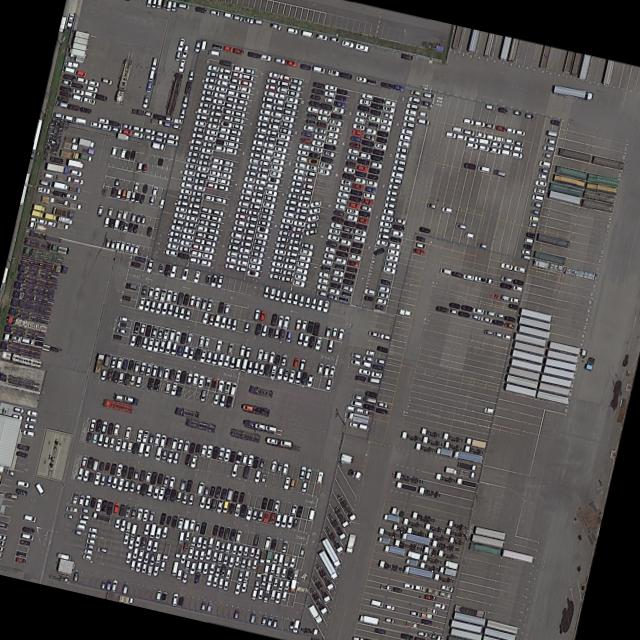large-vehicle: (20, 253, 70, 274), (114, 57, 134, 102), (13, 279, 56, 299), (12, 287, 54, 307), (6, 313, 48, 333), (16, 270, 58, 290), (0, 370, 41, 390), (0, 348, 43, 367), (10, 296, 53, 315), (0, 339, 43, 358), (8, 305, 50, 324), (2, 330, 44, 349), (18, 263, 60, 282), (3, 322, 46, 340), (23, 245, 66, 263), (313, 559, 336, 591), (320, 535, 342, 568), (553, 83, 594, 100), (325, 510, 348, 540), (317, 548, 339, 579), (323, 523, 345, 554), (336, 492, 358, 522), (311, 575, 333, 603), (554, 163, 589, 180), (557, 145, 592, 162), (590, 153, 625, 170), (545, 346, 580, 363), (308, 586, 329, 614), (537, 231, 571, 248), (501, 547, 535, 564), (504, 381, 538, 398), (229, 426, 261, 444), (541, 364, 577, 380), (184, 416, 217, 433), (549, 181, 584, 197), (580, 197, 615, 213), (547, 339, 582, 355), (540, 372, 575, 388), (544, 356, 579, 372), (452, 610, 487, 626), (582, 188, 616, 204), (564, 265, 598, 281), (548, 189, 582, 205), (587, 171, 621, 187), (533, 248, 567, 264), (537, 388, 571, 404), (486, 618, 520, 634), (470, 532, 506, 547), (585, 179, 618, 195), (506, 373, 539, 389), (454, 602, 487, 618), (472, 524, 507, 539), (538, 380, 573, 395), (331, 502, 351, 528), (532, 256, 564, 272), (469, 540, 501, 556), (29, 228, 63, 243), (513, 340, 547, 355), (507, 365, 541, 380), (512, 348, 546, 363), (513, 331, 547, 346), (450, 618, 484, 633), (448, 626, 484, 640), (553, 173, 586, 188), (510, 357, 543, 372), (520, 306, 553, 321), (430, 537, 460, 553), (402, 565, 434, 580), (518, 323, 550, 338), (103, 398, 134, 413), (401, 531, 432, 546), (393, 537, 424, 552), (519, 315, 552, 329), (484, 626, 517, 640), (377, 558, 404, 575), (453, 448, 485, 462), (394, 469, 423, 484), (24, 235, 51, 250), (307, 602, 324, 623), (175, 405, 200, 419), (410, 510, 435, 524), (432, 570, 457, 584), (377, 525, 403, 538), (249, 384, 274, 397), (444, 526, 467, 540), (420, 552, 443, 566), (45, 161, 69, 174), (383, 543, 407, 556), (446, 518, 468, 532), (395, 480, 418, 493), (418, 485, 441, 498), (465, 436, 488, 449), (455, 476, 478, 489), (423, 521, 445, 534), (436, 548, 458, 561), (345, 532, 358, 554), (421, 434, 443, 447), (406, 525, 429, 537), (402, 516, 425, 528), (462, 444, 485, 456), (400, 429, 423, 441), (413, 441, 436, 453), (346, 465, 364, 480), (52, 206, 74, 218), (442, 431, 464, 443), (434, 472, 456, 484), (420, 425, 440, 438), (359, 613, 380, 625), (427, 530, 449, 541), (29, 220, 49, 232), (78, 135, 96, 148), (418, 560, 439, 571), (439, 565, 458, 577), (443, 439, 463, 450), (52, 242, 71, 253), (405, 548, 422, 560), (61, 149, 80, 159), (382, 513, 401, 523), (457, 460, 476, 470), (68, 158, 85, 169), (483, 633, 509, 640), (435, 446, 453, 456), (448, 535, 464, 546), (422, 545, 438, 556), (444, 559, 460, 570), (57, 214, 74, 224), (459, 468, 476, 478), (53, 180, 68, 191), (43, 211, 58, 221), (63, 140, 78, 150), (115, 132, 130, 142), (392, 522, 407, 532), (391, 506, 406, 516), (369, 598, 384, 608), (447, 634, 472, 640), (56, 173, 72, 182), (52, 188, 66, 198), (405, 556, 419, 566), (444, 465, 458, 475), (41, 194, 56, 203), (151, 141, 166, 150), (68, 200, 82, 209), (37, 185, 51, 194), (49, 154, 63, 163), (30, 209, 44, 218), (32, 202, 46, 211), (377, 535, 391, 544), (56, 221, 69, 230), (56, 197, 69, 206), (68, 185, 81, 194), (80, 152, 93, 161), (64, 134, 77, 143), (379, 582, 392, 591), (151, 116, 163, 125), (384, 602, 396, 611), (83, 146, 95, 154)
small-vehicle: (94, 352, 105, 372), (162, 540, 172, 561), (34, 481, 46, 495), (297, 464, 308, 479), (174, 541, 183, 559), (148, 522, 158, 538), (265, 423, 279, 434), (55, 551, 72, 560), (206, 62, 221, 72), (210, 444, 220, 459), (199, 387, 209, 402), (134, 427, 144, 442), (157, 485, 167, 500), (93, 470, 103, 485), (73, 115, 88, 125), (195, 105, 211, 114), (19, 531, 35, 540), (280, 512, 289, 528), (177, 35, 186, 51), (399, 306, 412, 317), (372, 245, 385, 256), (196, 373, 206, 387), (284, 196, 298, 206), (134, 333, 144, 347), (377, 230, 391, 240), (160, 525, 170, 539), (315, 469, 325, 483), (166, 448, 176, 462), (230, 462, 240, 476), (242, 465, 252, 479), (218, 392, 228, 406), (76, 466, 86, 480), (341, 38, 355, 48), (259, 52, 273, 62), (421, 610, 435, 620), (321, 298, 331, 312), (498, 280, 513, 289), (499, 260, 514, 269), (434, 303, 449, 312), (164, 339, 173, 354), (210, 350, 219, 365), (338, 183, 353, 192), (401, 119, 416, 128), (400, 126, 415, 135), (326, 232, 341, 241), (64, 504, 79, 513), (110, 577, 119, 592), (105, 499, 114, 514), (130, 521, 139, 536), (280, 460, 289, 475), (205, 442, 214, 457), (199, 442, 208, 457), (114, 436, 123, 451), (155, 445, 164, 460), (283, 474, 292, 489), (212, 390, 221, 405), (170, 380, 179, 395), (123, 424, 132, 439), (96, 431, 105, 446), (117, 476, 126, 491), (196, 480, 205, 495), (245, 505, 254, 520), (307, 506, 316, 521), (355, 42, 370, 51), (177, 57, 186, 72), (146, 257, 155, 272), (216, 273, 225, 288), (294, 211, 307, 221), (15, 548, 28, 558), (149, 363, 159, 376), (155, 155, 165, 168), (383, 264, 396, 274), (95, 92, 108, 102), (83, 95, 96, 105), (378, 283, 391, 293), (414, 583, 427, 593), (201, 250, 214, 260), (171, 559, 179, 575), (66, 11, 74, 27), (241, 180, 255, 189), (267, 69, 281, 78), (273, 246, 287, 255), (357, 366, 371, 375), (367, 328, 381, 337), (164, 247, 178, 256), (364, 388, 378, 397), (363, 394, 377, 403), (177, 250, 191, 259), (185, 213, 199, 222), (202, 81, 216, 90), (513, 264, 527, 273), (474, 273, 488, 282), (358, 96, 372, 105), (129, 332, 138, 346), (140, 335, 149, 349), (170, 341, 179, 355), (193, 346, 202, 360), (538, 158, 552, 167), (545, 128, 559, 137), (352, 121, 366, 130), (402, 113, 416, 122), (291, 224, 305, 233), (324, 82, 338, 91), (296, 147, 310, 156), (310, 86, 324, 95), (380, 213, 394, 222), (382, 206, 396, 215), (390, 169, 404, 178), (397, 138, 411, 147), (375, 237, 389, 246), (318, 269, 332, 278), (328, 226, 342, 235), (179, 369, 188, 383), (228, 355, 237, 369), (283, 552, 292, 566), (71, 491, 80, 505), (100, 498, 109, 512), (112, 500, 121, 514), (123, 503, 132, 517), (135, 506, 144, 520), (23, 513, 37, 522), (16, 478, 30, 487), (21, 524, 35, 533), (15, 449, 29, 458), (119, 517, 128, 531), (280, 538, 289, 552), (176, 515, 185, 529), (199, 520, 208, 534), (251, 455, 260, 469), (217, 445, 226, 459), (182, 438, 191, 452), (137, 441, 146, 455), (170, 436, 179, 450), (225, 394, 234, 408), (155, 364, 164, 378), (152, 377, 161, 391), (152, 431, 161, 445), (88, 416, 97, 430), (146, 430, 155, 444), (163, 487, 172, 501), (146, 482, 155, 496), (222, 499, 231, 513), (111, 474, 120, 488), (274, 589, 283, 603), (292, 618, 301, 632), (184, 478, 193, 492), (167, 474, 176, 488), (161, 473, 170, 487), (149, 470, 158, 484), (109, 461, 118, 475), (86, 455, 95, 469), (295, 503, 304, 517), (213, 484, 222, 498), (272, 498, 281, 512), (266, 497, 275, 511), (222, 353, 231, 367), (389, 234, 403, 243), (315, 31, 329, 40), (246, 50, 260, 59), (312, 64, 326, 73), (339, 70, 353, 79), (416, 116, 430, 125), (141, 94, 150, 108), (440, 583, 454, 592), (425, 586, 439, 595), (428, 631, 442, 640), (61, 71, 75, 80), (425, 605, 439, 614), (240, 357, 249, 371), (210, 272, 219, 286), (152, 285, 161, 299), (140, 282, 149, 296), (262, 283, 271, 297), (199, 296, 208, 310), (214, 338, 223, 352), (275, 234, 290, 242), (179, 180, 194, 188), (329, 220, 344, 228), (171, 591, 179, 606), (181, 568, 189, 583), (189, 560, 197, 575), (290, 578, 298, 593), (155, 524, 163, 539), (246, 452, 254, 467), (223, 447, 231, 462), (144, 361, 152, 376), (260, 611, 268, 626), (287, 514, 295, 529), (184, 79, 192, 94), (434, 600, 446, 610), (400, 51, 413, 60), (260, 100, 273, 109), (261, 94, 274, 103), (263, 88, 276, 97), (233, 217, 246, 226), (270, 264, 283, 273), (279, 221, 292, 230), (282, 209, 295, 218), (261, 146, 274, 155), (263, 139, 276, 148), (166, 241, 179, 250), (216, 378, 225, 391), (254, 421, 267, 430), (280, 439, 293, 448), (350, 398, 363, 407), (194, 176, 207, 185), (460, 302, 473, 311), (457, 308, 470, 317), (176, 343, 185, 356), (199, 348, 208, 361), (217, 352, 226, 365), (347, 146, 360, 155), (290, 230, 303, 239), (297, 199, 310, 208), (305, 162, 318, 171), (307, 104, 320, 113), (308, 98, 321, 107), (318, 107, 331, 116), (321, 257, 334, 266), (324, 244, 337, 253), (277, 552, 286, 565), (173, 368, 182, 381), (83, 493, 92, 506), (129, 505, 138, 518), (22, 428, 35, 437), (234, 528, 243, 541), (252, 532, 261, 545), (263, 535, 272, 548), (240, 579, 249, 592), (269, 458, 278, 471), (234, 450, 243, 463), (301, 479, 310, 492), (254, 469, 263, 482), (126, 357, 135, 370), (112, 422, 121, 435), (100, 419, 109, 432), (102, 434, 111, 447), (105, 473, 114, 486), (82, 468, 91, 481), (179, 477, 188, 490), (126, 465, 135, 478), (384, 259, 397, 268), (391, 228, 404, 237), (76, 75, 89, 84), (84, 89, 97, 98), (269, 21, 282, 30), (374, 302, 387, 311), (327, 67, 340, 76), (464, 161, 477, 170), (477, 164, 490, 173), (494, 168, 507, 177), (412, 246, 425, 255), (451, 124, 464, 133), (439, 589, 452, 598), (63, 65, 76, 74), (65, 58, 78, 67), (131, 106, 144, 115), (423, 592, 436, 601), (374, 625, 387, 634), (400, 631, 413, 640), (210, 161, 223, 170), (229, 75, 242, 84), (232, 63, 245, 72), (203, 192, 216, 201), (200, 257, 213, 266), (303, 294, 312, 307), (309, 296, 318, 309), (315, 297, 324, 310), (187, 294, 196, 307), (225, 341, 234, 354), (257, 113, 271, 121), (240, 187, 254, 195), (219, 66, 233, 74), (213, 90, 227, 98), (277, 228, 291, 236), (170, 223, 184, 231), (229, 381, 237, 395), (174, 204, 188, 212), (178, 244, 192, 252), (181, 232, 195, 240), (182, 226, 196, 234), (187, 207, 201, 215), (205, 69, 219, 77), (192, 183, 206, 191), (196, 164, 210, 172), (204, 75, 218, 83), (188, 143, 202, 151), (177, 192, 191, 200), (179, 186, 193, 194), (181, 174, 195, 182), (182, 168, 196, 176), (184, 161, 198, 169), (187, 149, 201, 157), (189, 137, 203, 145), (194, 118, 208, 126), (198, 100, 212, 108), (201, 87, 215, 95), (499, 274, 513, 282), (511, 277, 525, 285), (438, 266, 452, 274), (534, 178, 548, 186), (147, 336, 155, 350), (153, 337, 161, 351), (182, 344, 190, 358), (188, 345, 196, 359), (205, 349, 213, 363), (357, 103, 371, 111), (337, 190, 351, 198), (405, 101, 419, 109), (404, 107, 418, 115), (288, 237, 302, 245), (309, 144, 323, 152), (297, 141, 311, 149), (319, 101, 333, 109), (379, 219, 393, 227), (389, 176, 403, 184), (363, 286, 377, 294), (393, 157, 407, 165), (331, 214, 345, 222), (259, 549, 267, 563), (265, 549, 273, 563), (161, 588, 169, 602), (214, 562, 222, 576), (141, 507, 149, 521), (134, 533, 142, 547), (146, 537, 154, 551), (125, 549, 133, 563), (143, 521, 151, 535), (188, 517, 196, 531), (159, 511, 167, 525), (234, 580, 242, 594), (144, 442, 152, 456), (173, 450, 181, 464), (190, 453, 198, 467), (159, 433, 167, 447), (115, 355, 123, 369), (103, 352, 111, 366), (141, 428, 149, 442), (106, 420, 114, 434), (94, 417, 102, 431), (147, 375, 155, 389), (112, 368, 120, 382), (123, 371, 131, 385), (140, 481, 148, 495), (153, 484, 161, 498), (181, 490, 189, 504), (188, 491, 196, 505), (199, 494, 207, 508), (205, 495, 213, 509), (216, 498, 224, 512), (234, 502, 242, 516), (120, 463, 128, 477), (115, 462, 123, 476), (274, 512, 282, 526), (260, 495, 268, 509), (234, 356, 242, 370), (61, 113, 75, 121), (301, 29, 315, 37), (219, 58, 233, 66), (379, 80, 393, 88), (193, 38, 201, 52), (182, 43, 190, 57), (193, 294, 201, 308), (170, 263, 178, 277), (181, 266, 189, 280), (182, 292, 190, 306), (165, 288, 173, 302), (147, 284, 155, 298), (269, 285, 277, 299), (280, 288, 288, 302), (206, 297, 214, 311), (274, 55, 285, 65), (259, 106, 271, 115), (227, 242, 239, 251), (273, 96, 285, 105), (277, 78, 289, 87), (279, 72, 291, 81), (185, 371, 194, 383), (267, 435, 279, 444), (463, 271, 475, 280), (348, 139, 360, 148), (307, 156, 319, 165), (323, 250, 335, 259), (15, 486, 27, 495), (18, 537, 30, 546), (145, 563, 154, 575), (211, 523, 220, 535), (222, 526, 231, 538), (228, 528, 237, 540), (131, 441, 140, 453), (117, 369, 126, 381), (219, 486, 228, 498), (76, 68, 88, 77), (386, 253, 398, 262), (387, 247, 399, 256), (101, 76, 113, 85), (86, 84, 98, 93), (72, 93, 84, 102), (376, 296, 388, 305), (132, 123, 144, 132), (181, 94, 190, 106), (441, 204, 453, 213), (466, 140, 478, 149), (512, 150, 524, 159), (474, 118, 486, 127), (403, 581, 415, 590), (420, 616, 432, 625), (409, 607, 421, 616), (219, 124, 231, 133), (206, 180, 218, 189), (204, 237, 216, 246), (207, 173, 219, 182), (189, 255, 201, 264), (190, 247, 202, 256), (203, 244, 215, 253), (197, 216, 209, 225), (238, 344, 247, 356), (185, 331, 194, 343), (205, 127, 218, 135), (243, 174, 256, 182), (246, 162, 259, 170), (253, 131, 266, 139), (208, 115, 221, 123), (210, 109, 223, 117), (212, 96, 225, 104), (215, 84, 228, 92), (218, 72, 231, 80), (223, 261, 236, 269), (225, 255, 238, 263), (226, 249, 239, 257), (230, 230, 243, 238), (231, 224, 244, 232), (271, 259, 284, 267), (269, 271, 282, 279), (272, 253, 285, 261), (275, 240, 288, 248), (281, 216, 294, 224), (283, 203, 296, 211), (270, 109, 283, 117), (238, 245, 251, 253), (245, 214, 258, 222), (247, 208, 260, 216), (250, 195, 263, 203), (256, 171, 269, 179), (207, 121, 220, 129), (370, 369, 383, 377), (349, 357, 362, 365), (361, 353, 374, 361), (376, 344, 389, 352), (375, 406, 388, 414), (168, 235, 181, 243), (169, 229, 182, 237), (367, 375, 380, 383), (354, 373, 367, 381), (224, 379, 232, 392), (173, 210, 186, 218), (180, 238, 193, 246), (191, 189, 204, 197), (198, 158, 211, 166), (199, 152, 212, 160), (176, 198, 189, 206), (186, 155, 199, 163), (192, 124, 205, 132), (200, 94, 213, 102), (287, 191, 300, 199), (448, 300, 461, 308), (408, 95, 421, 103), (472, 306, 485, 314), (531, 193, 544, 201), (533, 186, 546, 194), (361, 91, 374, 99), (158, 339, 166, 352), (355, 109, 368, 117), (354, 115, 367, 123), (542, 143, 555, 151), (340, 177, 353, 185), (342, 171, 355, 179), (343, 165, 356, 173), (283, 262, 296, 270), (287, 243, 300, 251), (293, 218, 306, 226), (300, 188, 313, 196), (302, 123, 315, 131), (293, 166, 306, 174), (294, 160, 307, 168), (295, 154, 308, 162), (299, 135, 312, 143), (323, 89, 336, 97), (312, 80, 325, 88), (308, 150, 321, 158), (311, 138, 324, 146), (378, 225, 391, 233), (383, 200, 396, 208), (384, 194, 397, 202), (392, 163, 405, 171), (395, 151, 408, 159), (396, 145, 409, 153), (336, 196, 349, 204), (314, 126, 327, 134), (317, 276, 330, 284), (334, 202, 347, 210), (191, 371, 199, 384), (155, 588, 163, 601), (209, 560, 217, 573), (219, 563, 227, 576), (205, 572, 213, 585), (256, 564, 264, 577), (205, 547, 213, 560), (187, 545, 195, 558), (78, 493, 86, 506), (95, 497, 103, 510), (118, 503, 126, 516), (147, 509, 155, 522), (17, 442, 30, 450), (137, 548, 145, 561), (140, 535, 148, 548), (152, 539, 160, 552), (143, 550, 151, 563), (148, 551, 156, 564), (155, 550, 163, 563), (152, 563, 160, 576), (170, 514, 178, 527), (217, 524, 225, 537), (236, 568, 244, 581), (228, 449, 236, 462), (188, 440, 196, 453), (184, 452, 192, 465), (109, 354, 117, 367), (121, 356, 129, 369), (133, 359, 141, 372), (139, 360, 147, 373), (168, 366, 176, 379), (100, 367, 108, 380), (106, 367, 114, 380), (135, 374, 143, 387), (123, 478, 131, 491), (129, 478, 137, 491), (240, 503, 248, 516), (155, 472, 163, 485), (138, 468, 146, 481), (92, 457, 100, 470), (79, 454, 87, 467), (257, 508, 265, 521), (263, 509, 271, 522), (269, 511, 277, 524), (290, 502, 298, 515), (226, 487, 234, 500), (55, 99, 68, 107), (380, 277, 393, 285), (388, 241, 401, 249), (394, 216, 407, 224), (72, 87, 85, 95), (167, 132, 180, 140), (299, 62, 312, 70), (392, 83, 405, 91), (120, 121, 133, 129), (97, 116, 110, 124), (361, 293, 374, 301), (163, 262, 171, 275), (193, 269, 201, 282), (176, 291, 184, 304), (159, 287, 167, 300), (216, 137, 229, 145), (224, 100, 237, 108), (292, 291, 300, 304), (298, 293, 306, 306), (179, 330, 187, 343), (209, 376, 218, 387), (243, 15, 254, 24), (456, 221, 467, 230), (456, 132, 467, 141), (483, 405, 494, 414), (193, 241, 204, 250), (191, 131, 205, 138), (202, 535, 209, 549), (122, 580, 129, 594), (183, 516, 190, 530), (162, 365, 169, 379), (252, 137, 264, 145), (255, 125, 267, 133), (256, 119, 268, 127), (265, 82, 277, 90), (237, 199, 249, 207), (236, 205, 248, 213), (229, 236, 241, 244), (235, 264, 247, 272), (237, 258, 249, 266), (238, 251, 250, 259), (271, 103, 283, 111), (274, 91, 286, 99), (276, 85, 288, 93), (252, 189, 264, 197), (243, 226, 255, 234), (245, 220, 257, 228), (267, 128, 279, 136), (255, 177, 267, 185), (361, 359, 373, 367), (372, 362, 384, 370), (349, 350, 361, 358), (374, 356, 386, 364), (379, 332, 391, 340), (358, 422, 370, 430), (351, 392, 363, 400), (190, 195, 202, 203), (196, 170, 208, 178), (291, 179, 303, 187), (451, 269, 463, 277), (484, 308, 496, 316), (469, 311, 481, 319), (492, 317, 504, 325), (503, 320, 515, 328), (544, 136, 556, 144), (549, 117, 561, 125), (346, 152, 358, 160), (351, 128, 363, 136), (285, 255, 297, 263), (281, 274, 293, 282), (299, 194, 311, 202), (303, 182, 315, 190), (305, 169, 317, 177), (292, 173, 304, 181), (313, 132, 325, 140), (317, 113, 329, 121), (316, 282, 328, 290), (325, 238, 337, 246), (332, 208, 344, 216), (237, 543, 245, 555), (180, 551, 188, 563), (96, 544, 108, 552), (286, 567, 294, 579), (196, 560, 204, 572), (240, 555, 248, 567), (13, 404, 25, 412), (6, 491, 18, 499), (176, 438, 184, 450), (304, 467, 312, 479), (120, 439, 128, 451), (126, 440, 134, 452), (175, 489, 183, 501), (249, 610, 257, 622), (85, 430, 93, 442), (238, 490, 246, 502), (377, 290, 389, 298), (67, 102, 79, 110), (79, 105, 91, 113), (393, 222, 405, 230), (87, 78, 99, 86), (195, 5, 207, 13), (208, 48, 220, 56), (285, 58, 297, 66), (355, 74, 367, 82), (366, 77, 378, 85), (200, 38, 208, 50), (108, 118, 120, 126), (421, 99, 433, 107), (423, 91, 435, 99), (445, 130, 457, 138), (495, 123, 507, 131), (419, 225, 431, 233), (415, 240, 427, 248), (479, 136, 491, 144), (475, 130, 487, 138), (58, 89, 70, 97), (59, 83, 71, 91), (147, 68, 155, 80), (170, 289, 178, 301), (222, 112, 234, 120), (209, 168, 221, 176), (212, 156, 224, 164), (214, 143, 226, 151), (223, 106, 235, 114), (226, 94, 238, 102), (228, 88, 240, 96), (229, 82, 241, 90), (199, 211, 211, 219), (154, 134, 166, 142), (197, 334, 205, 346), (239, 193, 252, 200), (211, 103, 224, 110), (217, 79, 230, 86), (257, 165, 270, 172), (260, 153, 273, 160), (204, 134, 217, 141), (202, 140, 215, 147), (363, 402, 376, 409), (171, 217, 184, 224), (188, 201, 201, 208), (184, 220, 197, 227), (201, 146, 214, 153), (195, 113, 208, 120), (480, 315, 493, 322), (309, 93, 322, 100), (387, 182, 400, 189), (399, 133, 412, 140), (197, 534, 204, 547), (78, 512, 91, 519), (290, 554, 297, 567), (202, 560, 209, 573), (194, 571, 201, 584), (128, 535, 135, 548), (123, 531, 130, 544), (170, 488, 177, 501), (210, 497, 217, 510), (99, 473, 106, 486), (261, 573, 268, 586), (228, 501, 235, 514), (286, 26, 299, 33), (463, 128, 476, 135), (416, 629, 429, 636), (166, 138, 179, 145), (134, 255, 147, 262), (275, 287, 282, 300), (217, 131, 230, 138), (286, 290, 293, 303), (330, 34, 340, 43), (266, 76, 277, 84), (268, 122, 279, 130), (242, 233, 253, 241), (254, 183, 265, 191), (204, 375, 212, 386), (243, 403, 254, 411), (538, 165, 549, 173), (303, 175, 314, 183), (306, 110, 317, 118), (64, 512, 75, 520), (89, 496, 97, 507), (15, 555, 26, 563), (159, 560, 167, 571), (141, 562, 149, 573), (193, 520, 201, 531), (258, 457, 266, 468), (164, 381, 172, 392), (91, 432, 99, 443), (269, 588, 277, 599), (262, 591, 270, 602), (179, 1, 190, 9), (209, 8, 220, 16), (254, 17, 265, 25), (212, 42, 223, 50), (233, 46, 244, 54), (173, 116, 184, 124), (145, 80, 153, 91), (477, 241, 488, 249), (426, 201, 437, 209), (506, 125, 517, 133), (468, 135, 479, 143), (478, 143, 489, 151), (486, 132, 497, 140), (463, 117, 474, 125), (384, 615, 395, 623), (61, 77, 72, 85), (115, 208, 123, 219), (127, 221, 135, 232), (118, 240, 126, 251), (194, 236, 205, 244), (197, 223, 208, 231), (245, 168, 257, 175), (249, 150, 261, 157), (251, 144, 263, 151), (235, 212, 247, 219), (269, 116, 281, 123), (240, 239, 252, 246), (249, 202, 261, 209), (258, 158, 270, 165), (265, 134, 277, 141), (377, 400, 389, 407), (289, 185, 301, 192), (507, 302, 519, 309), (512, 284, 524, 291), (530, 200, 542, 207), (410, 88, 422, 95), (504, 314, 516, 321), (350, 134, 362, 141), (286, 250, 298, 257), (296, 206, 308, 213), (282, 268, 294, 275), (300, 129, 312, 136), (386, 188, 398, 195), (320, 264, 332, 271), (315, 289, 327, 296), (214, 538, 221, 550), (105, 578, 112, 590), (293, 567, 300, 579), (178, 530, 185, 542), (72, 570, 79, 582), (228, 554, 235, 566), (222, 552, 229, 564), (115, 515, 122, 527), (12, 412, 24, 419), (26, 409, 38, 416), (130, 558, 137, 570), (135, 560, 142, 572), (241, 452, 248, 464), (109, 435, 116, 447), (176, 384, 183, 396), (129, 373, 136, 385), (251, 587, 258, 599), (233, 607, 240, 619), (266, 614, 273, 626), (252, 508, 259, 520), (232, 489, 239, 501), (57, 95, 69, 102), (144, 127, 156, 134), (489, 146, 501, 153), (490, 140, 502, 147), (150, 57, 157, 69), (352, 633, 364, 640), (414, 634, 428, 640), (156, 130, 168, 137), (97, 203, 104, 215), (146, 224, 153, 236), (130, 260, 142, 267), (118, 218, 125, 230), (123, 240, 130, 252), (133, 243, 140, 255), (108, 216, 115, 228), (220, 119, 232, 126), (231, 70, 243, 77), (201, 205, 213, 212), (393, 584, 402, 593), (245, 419, 255, 427), (177, 595, 185, 605), (6, 468, 16, 476), (0, 520, 10, 528), (253, 579, 261, 589), (233, 13, 243, 21), (419, 109, 429, 117), (172, 122, 182, 130), (416, 233, 426, 241), (513, 144, 523, 152), (204, 273, 212, 283), (104, 237, 112, 247), (196, 229, 206, 237), (248, 156, 259, 163), (490, 291, 501, 298), (520, 252, 531, 259), (521, 247, 532, 254), (522, 242, 533, 249), (523, 236, 534, 243), (529, 214, 540, 221), (447, 307, 458, 314), (345, 159, 356, 166), (305, 117, 316, 124), (316, 120, 327, 127), (182, 540, 189, 551), (190, 534, 197, 545), (208, 536, 215, 547), (249, 545, 256, 556), (273, 551, 280, 562), (176, 568, 183, 579), (79, 506, 90, 513), (225, 567, 232, 578), (184, 558, 191, 569), (223, 579, 230, 590), (217, 576, 224, 587), (278, 579, 285, 590), (280, 566, 287, 577), (275, 564, 282, 575), (263, 563, 270, 574), (252, 558, 259, 569), (199, 549, 206, 560), (193, 548, 200, 559), (281, 590, 288, 601), (72, 528, 83, 535), (24, 422, 35, 429), (132, 546, 139, 557), (270, 537, 277, 548), (243, 569, 250, 580), (162, 447, 169, 458), (165, 434, 172, 445), (124, 395, 135, 402), (135, 482, 142, 493), (257, 588, 264, 599), (265, 582, 272, 593), (144, 470, 151, 481), (209, 484, 216, 495), (166, 0, 173, 11), (171, 0, 178, 11), (179, 107, 186, 118), (524, 112, 535, 119), (501, 148, 512, 155), (503, 142, 514, 149), (153, 112, 164, 119), (107, 205, 114, 216), (121, 209, 128, 220), (130, 211, 137, 222), (132, 222, 139, 233), (123, 220, 130, 231), (109, 238, 116, 249), (128, 242, 135, 253), (103, 215, 110, 226), (113, 218, 120, 229), (244, 346, 251, 357), (203, 336, 210, 347), (350, 420, 359, 428), (243, 544, 249, 556), (255, 546, 261, 558), (217, 551, 223, 563), (260, 473, 268, 482), (161, 0, 169, 9), (224, 10, 233, 18), (486, 121, 495, 129), (365, 348, 375, 355), (345, 404, 355, 411), (501, 293, 511, 300), (526, 230, 536, 237), (502, 332, 512, 339), (493, 329, 503, 336), (495, 311, 505, 318), (538, 172, 548, 179), (542, 151, 552, 158), (324, 95, 334, 102), (184, 530, 191, 540), (231, 543, 238, 553), (86, 537, 96, 544), (87, 531, 97, 538), (88, 525, 98, 532), (77, 517, 87, 524), (211, 576, 218, 586), (200, 600, 207, 610), (206, 601, 213, 611), (270, 562, 277, 572), (299, 545, 306, 555), (276, 461, 283, 471), (194, 443, 201, 453), (267, 573, 274, 583), (203, 484, 210, 494), (223, 44, 233, 51), (174, 50, 181, 60), (188, 69, 195, 79), (164, 114, 174, 121), (516, 128, 526, 135), (485, 103, 495, 110), (505, 137, 515, 144), (158, 261, 165, 271), (509, 296, 520, 302), (530, 208, 541, 214), (226, 541, 232, 552), (234, 554, 240, 565), (284, 579, 290, 590), (26, 416, 37, 422), (126, 520, 132, 531), (272, 616, 278, 627), (115, 239, 121, 250), (83, 553, 92, 560), (272, 577, 279, 586), (104, 461, 111, 470), (144, 109, 153, 116), (465, 231, 474, 238), (496, 135, 505, 142), (483, 328, 493, 334), (220, 541, 226, 551), (84, 542, 94, 548), (100, 578, 106, 588), (246, 558, 252, 568), (212, 550, 218, 560), (76, 523, 86, 529), (290, 478, 296, 488), (289, 618, 295, 628), (134, 468, 140, 478), (293, 517, 299, 527), (498, 106, 508, 112), (140, 213, 146, 223), (116, 392, 124, 399), (515, 139, 523, 146), (528, 220, 537, 226), (84, 548, 93, 554), (166, 514, 172, 523), (53, 111, 62, 117), (513, 109, 522, 115), (163, 120, 171, 126), (99, 460, 104, 469), (136, 212, 141, 221), (363, 636, 374, 640), (0, 533, 6, 540), (151, 0, 157, 7), (156, 0, 162, 7), (427, 637, 440, 640), (146, 0, 152, 6), (0, 539, 5, 546), (0, 545, 3, 551)
